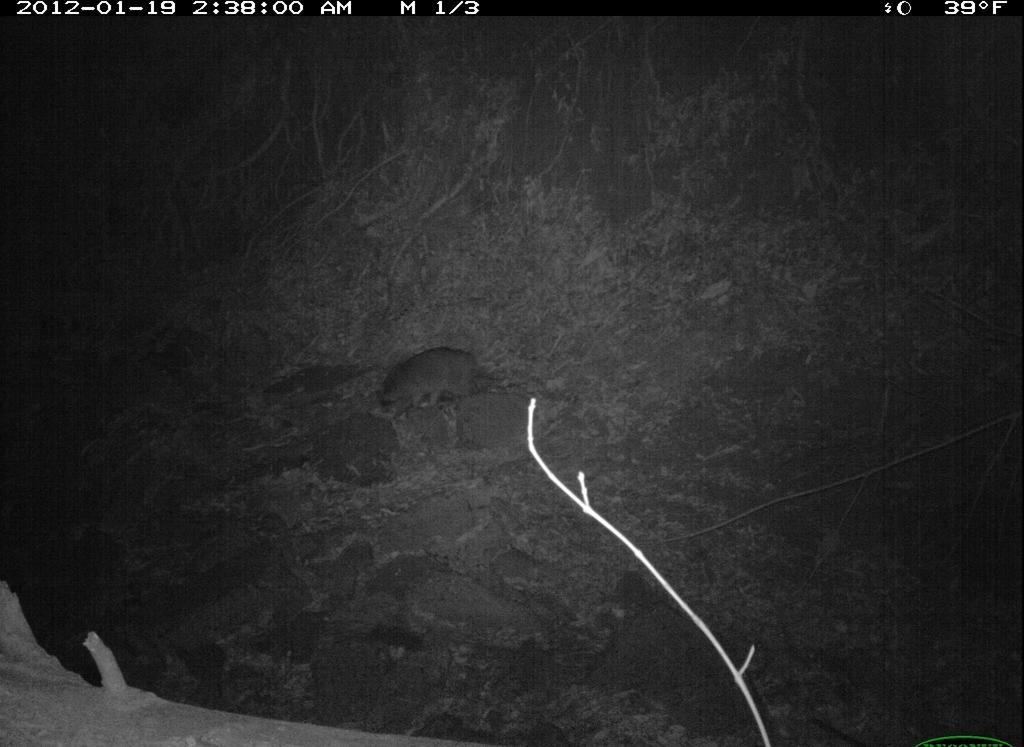raccoon: (367, 337, 501, 426)
